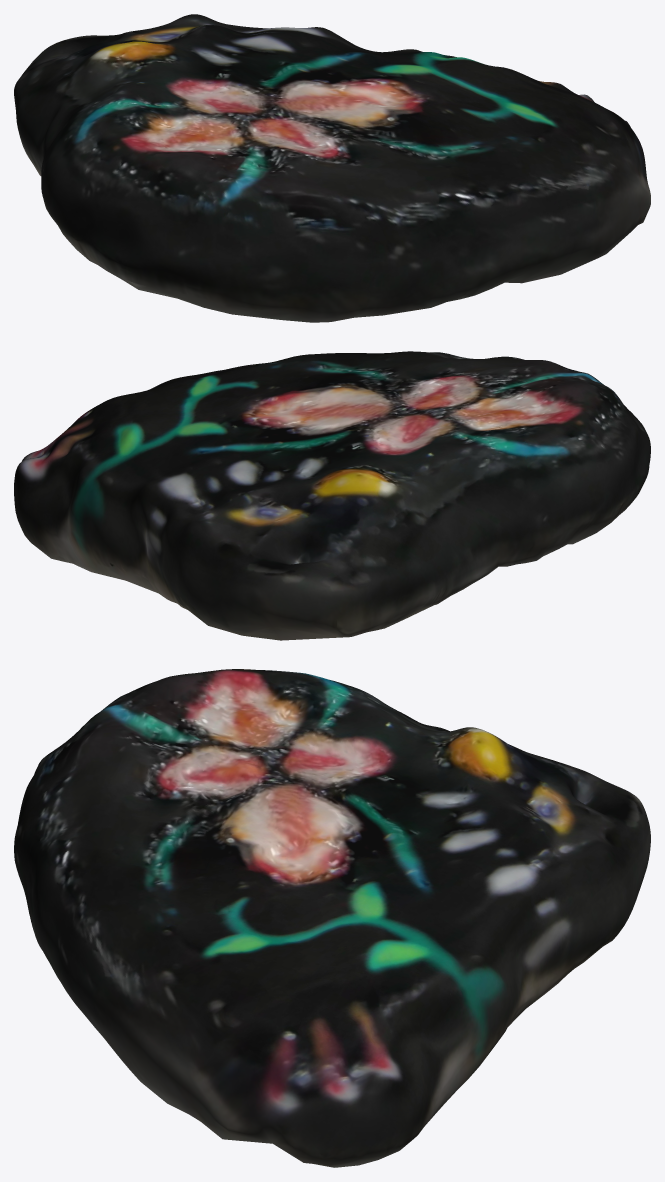
3 views of the same model, one above another, from view 1: azimuth 30°, elevation 25°; view 2: azimuth 150°, elevation 25°; view 3: azimuth 270°, elevation 25° (orthographic). The views are drawn at different scales.
Size of the model in its own units: 0.4504 by 0.1608 by 0.3899.
1 material, 1 textured.
